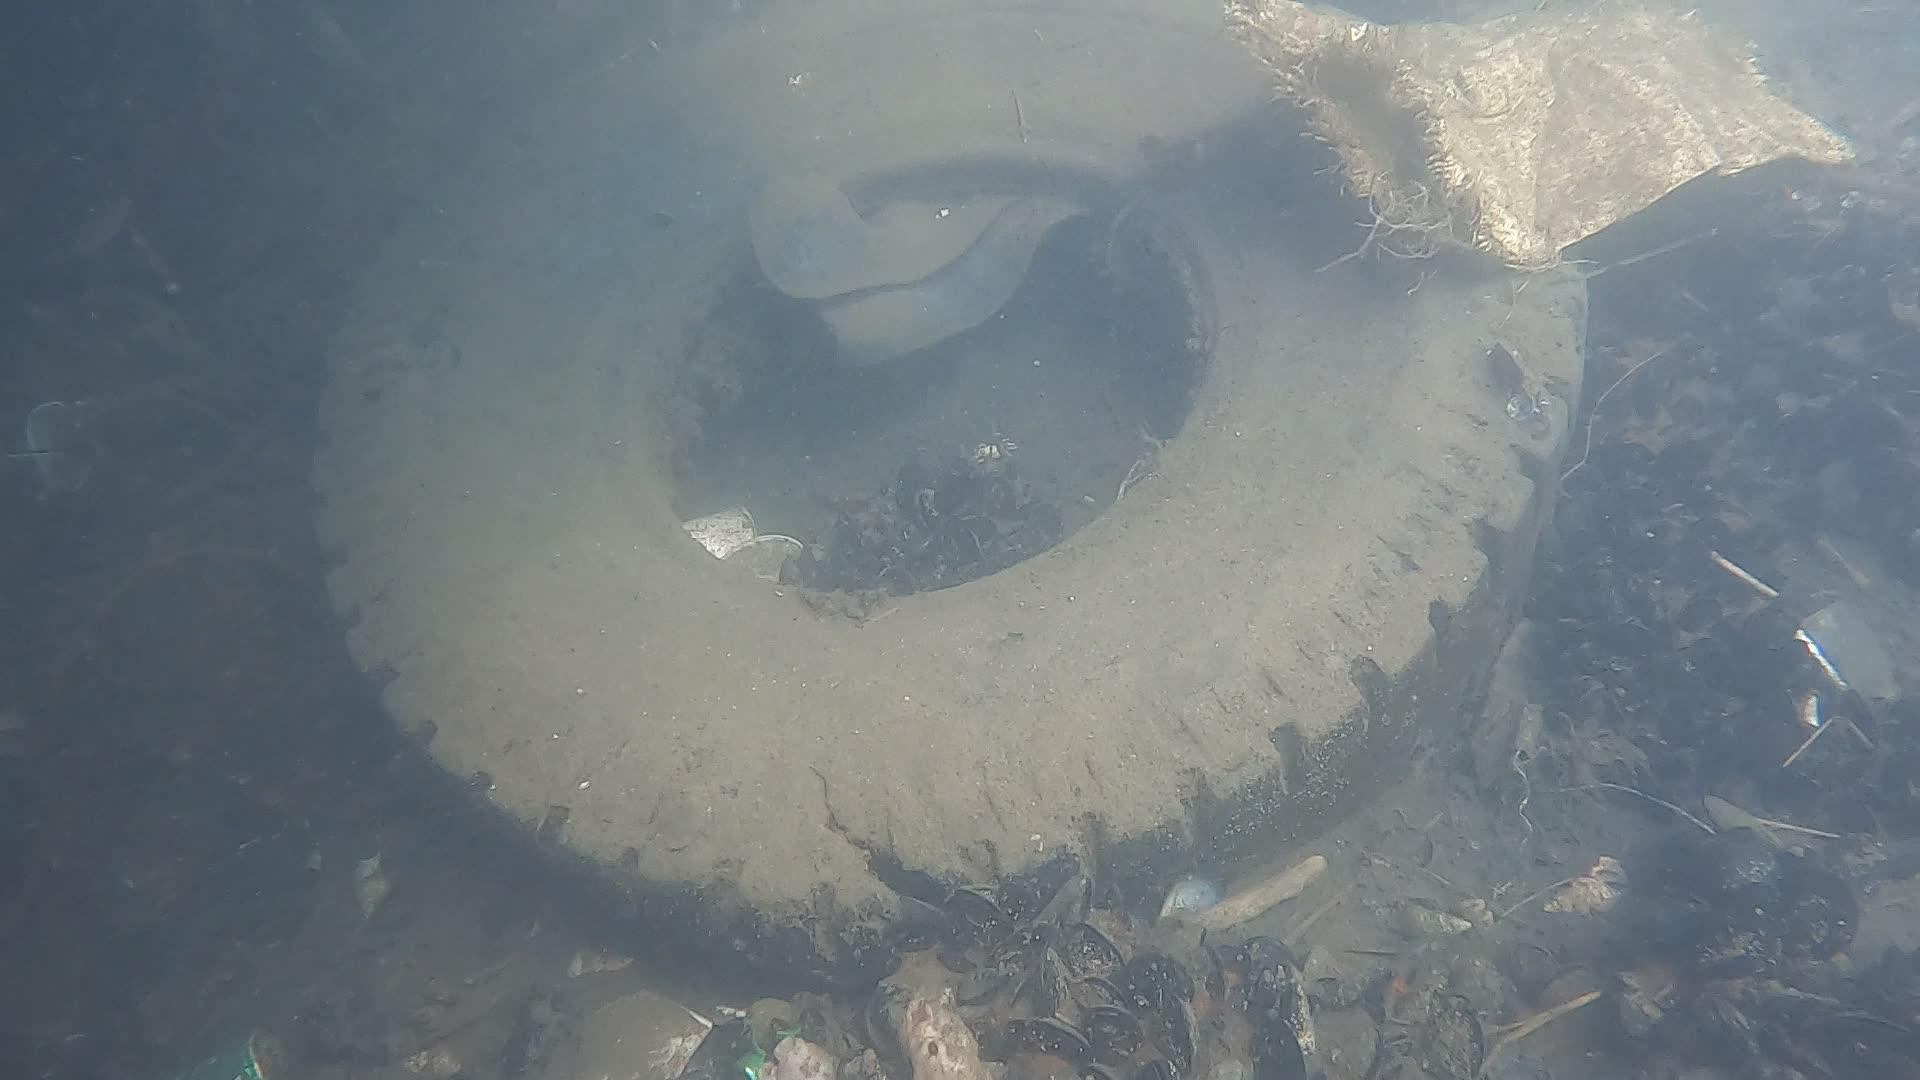tire: (309, 0, 1590, 964)
